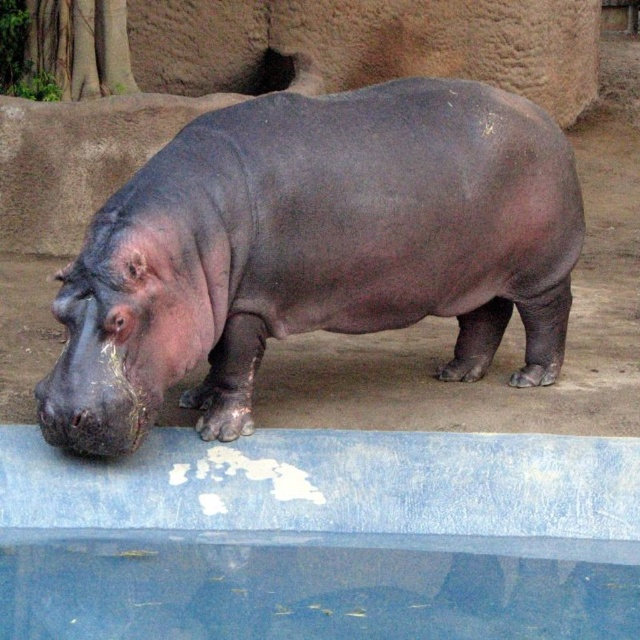Hippopotamus: (32, 76, 588, 457)
